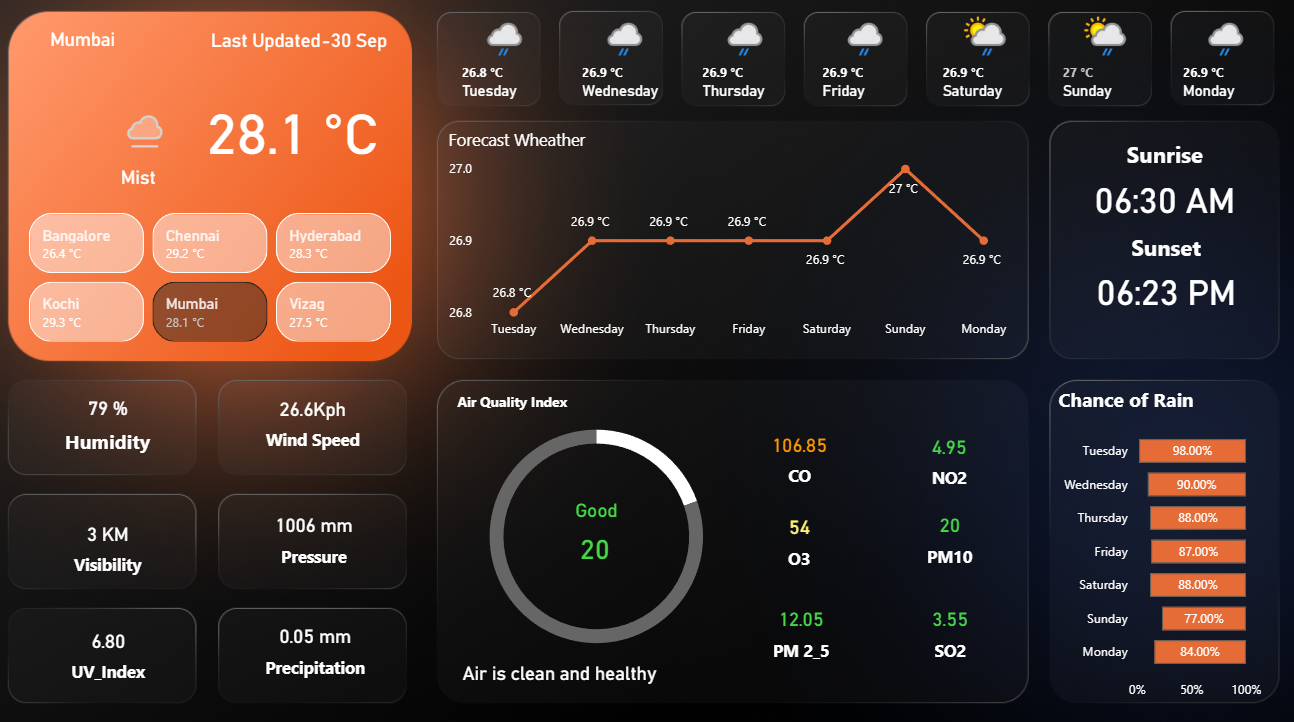

The page's visual inventory and layout, read from the dashboard file:
{"tool":"powerbi","page":{"name":"Analysis","canvas":[1280,720],"ordinal":0},"visuals":[{"type":"advancedSlicerVisual","fields":{"Values":["Locations.location.name"]},"box":[20.9,212.3,400,135],"z":0},{"type":"card","fields":{"Values":["Min(Locations.location.name)"]},"box":[47.9,35.6,98.2,30.7],"z":1000},{"type":"card","fields":{"Values":["_Measures.Curr_temp_C"]},"box":[208.6,85.9,196.3,98.2],"z":2000},{"type":"card","fields":{"Values":["_Measures.Last_Updated_Date_Curr"]},"box":[179.1,27,255.2,49.1],"z":3000},{"type":"card","fields":{"Values":["Min(Current.current.condition.text)"]},"box":[66.3,163.2,169.3,41.7],"z":4000},{"type":"cardVisual","fields":{"Data":["Min(Current.current.condition.icon)"]},"box":[66.3,50.3,132.5,168.1],"z":5000},{"type":"card","fields":{"Values":["_Measures.Humidity"]},"box":[0,359.5,242.9,119],"z":6000},{"type":"card","fields":{"Values":["_Measures.Wind_Speed"]},"box":[162,359.5,315.3,116.6],"z":7000},{"type":"card","fields":{"Values":["_Measures.Visibility"]},"box":[0,488.3,242.9,99.4],"z":8000},{"type":"card","fields":{"Values":["_Measures.Pressure"]},"box":[163.2,471.2,315.3,116.6],"z":9000},{"type":"card","fields":{"Values":["_Measures.UV_Index"]},"box":[8.6,587.7,227,108],"z":10000},{"type":"card","fields":{"Values":["_Measures.Precipitation"]},"box":[164.4,579.1,315.3,116.6],"z":11000},{"type":"advancedSlicerVisual","fields":{"Values":["Forecast_Day.Day_Name"]},"box":[445.4,14.7,817.2,111.7],"z":12000},{"type":"lineChart","title":"Forecast Wheather","fields":{"Y":["Sum(Forecast_Day.forecast.forecastday.day.avgtemp_c)"],"Category":["Forecast_Day.Day_Name"]},"box":[445.4,135,557.1,212.3],"z":13000},{"type":"card","title":"Sunrise","fields":{"Values":["Min(Forecast_Day.forecast.forecastday.astro.sunrise)"]},"box":[1012.3,146,258.9,89.6],"z":14000},{"type":"card","title":"Sunset","fields":{"Values":["Min(Forecast_Day.forecast.forecastday.astro.sunset)"]},"box":[1044.2,235.6,196.3,88.3],"z":15000},{"type":"hundredPercentStackedBarChart","title":"Chance of Rain","fields":{"Y":["Current.Left_Value_rain","Sum(Forecast_Day.forecast.forecastday.day.daily_chance_of_rain)"],"Category":["Forecast_Day.Day_Name"]},"box":[1034.4,385.3,206.1,310.4],"z":16000},{"type":"textbox","box":[454,385.3,144.8,46.6],"z":17000},{"type":"card","fields":{"Values":["Sum(Current.current.air_quality.pm10)"]},"box":[861.6,495.3,145.4,68.6],"z":18000},{"type":"card","fields":{"Values":["Sum(Current.current.air_quality.co)"]},"box":[698.9,413.4,181.4,77.3],"z":19000},{"type":"card","fields":{"Values":["Sum(Current.current.air_quality.no2)"]},"box":[854.7,414.3,159.1,80.9],"z":20000},{"type":"card","fields":{"Values":["Sum(Current.current.air_quality.o3)"]},"box":[703.3,489.2,171,84.8],"z":21000},{"type":"card","fields":{"Values":["Sum(Current.current.air_quality.pm2_5)"]},"box":[705.2,578.9,170.1,83.7],"z":22000},{"type":"card","fields":{"Values":["Sum(Current.current.air_quality.so2)"]},"box":[842.9,566.9,182.8,108],"z":23000},{"type":"donutChart","fields":{"Y":["Sum(Current.current.air_quality.pm10)","_Measures.PM10_Left"]},"box":[396.5,395.1,392.4,267.5],"z":24000},{"type":"card","fields":{"Values":["_Measures.AQI Suggestion TEMPLATE"]},"box":[434.4,614.7,246.6,94.5],"z":25000},{"type":"card","fields":{"Values":["_Measures.AQI_Status_Text"]},"box":[471.2,455.2,242.9,100.6],"z":26000},{"type":"card","fields":{"Values":["Sum(Current.current.air_quality.pm10)"]},"box":[519,506.8,146,68.7],"z":27000}]}

Visuals, with their boxes in screenshot pixels (x1, y1, x2, y2), scaled from the page's 1280x720 canvas onto the 1294x722 screenshot:
advancedSlicerVisual - Locations.location.name: (21,213,426,348)
card - Min(Locations.location.name): (48,36,148,66)
card - _Measures.Curr_temp_C: (211,86,409,185)
card - _Measures.Last_Updated_Date_Curr: (181,27,439,76)
card - Min(Current.current.condition.text): (67,164,238,205)
cardVisual - Min(Current.current.condition.icon): (67,50,201,219)
card - _Measures.Humidity: (0,360,246,480)
card - _Measures.Wind_Speed: (164,360,483,477)
card - _Measures.Visibility: (0,490,246,589)
card - _Measures.Pressure: (165,473,484,589)
card - _Measures.UV_Index: (9,589,238,698)
card - _Measures.Precipitation: (166,581,485,698)
advancedSlicerVisual - Forecast_Day.Day_Name: (450,15,1276,127)
"Forecast Wheather" lineChart: (450,135,1013,348)
"Sunrise" card: (1023,146,1285,236)
"Sunset" card: (1056,236,1254,325)
"Chance of Rain" hundredPercentStackedBarChart: (1046,386,1254,698)
textbox: (459,386,605,433)
card - Sum(Current.current.air_quality.pm10): (871,497,1018,565)
card - Sum(Current.current.air_quality.co): (707,415,890,492)
card - Sum(Current.current.air_quality.no2): (864,415,1025,497)
card - Sum(Current.current.air_quality.o3): (711,491,884,576)
card - Sum(Current.current.air_quality.pm2_5): (713,581,885,664)
card - Sum(Current.current.air_quality.so2): (852,568,1037,677)
donutChart - Sum(Current.current.air_quality.pm10) x _Measures.PM10_Left: (401,396,798,664)
card - _Measures.AQI Suggestion TEMPLATE: (439,616,688,711)
card - _Measures.AQI_Status_Text: (476,456,722,557)
card - Sum(Current.current.air_quality.pm10): (525,508,672,577)
